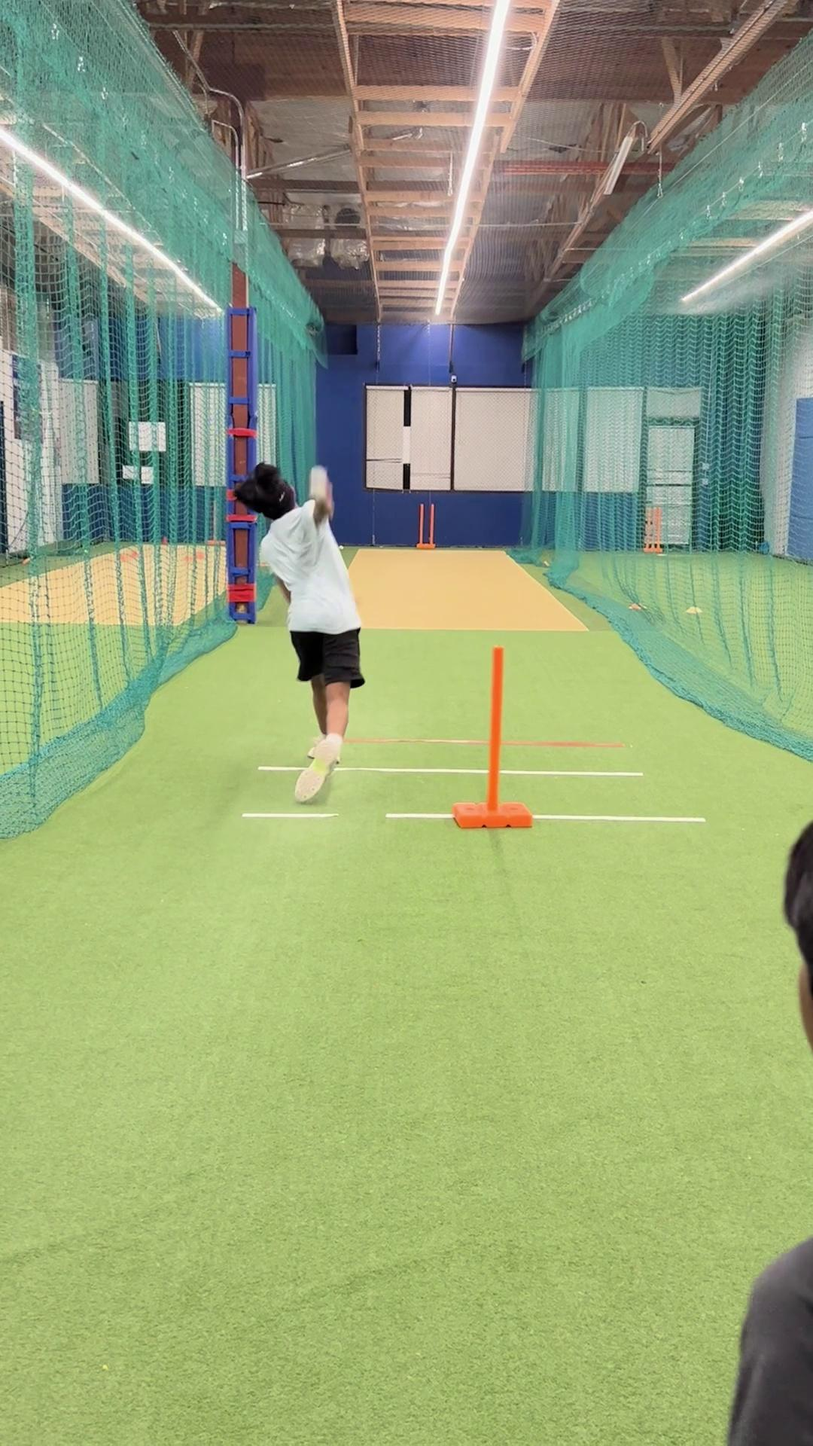ball: (300, 463, 340, 511)
